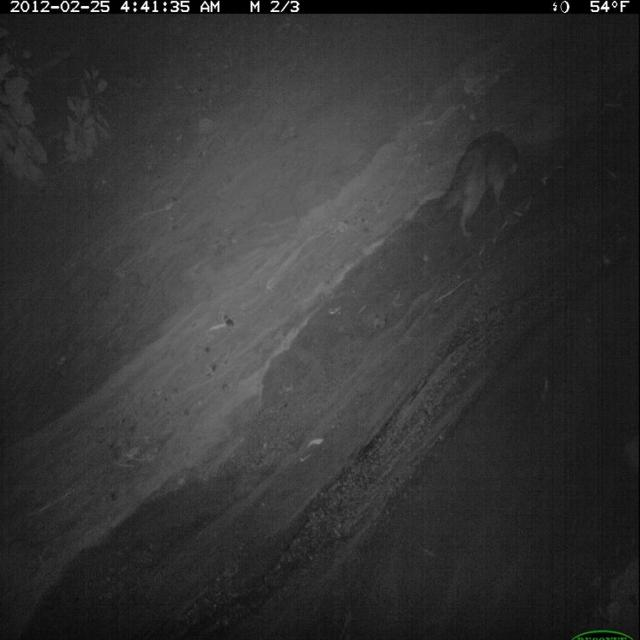raccoon: (429, 125, 525, 242)
